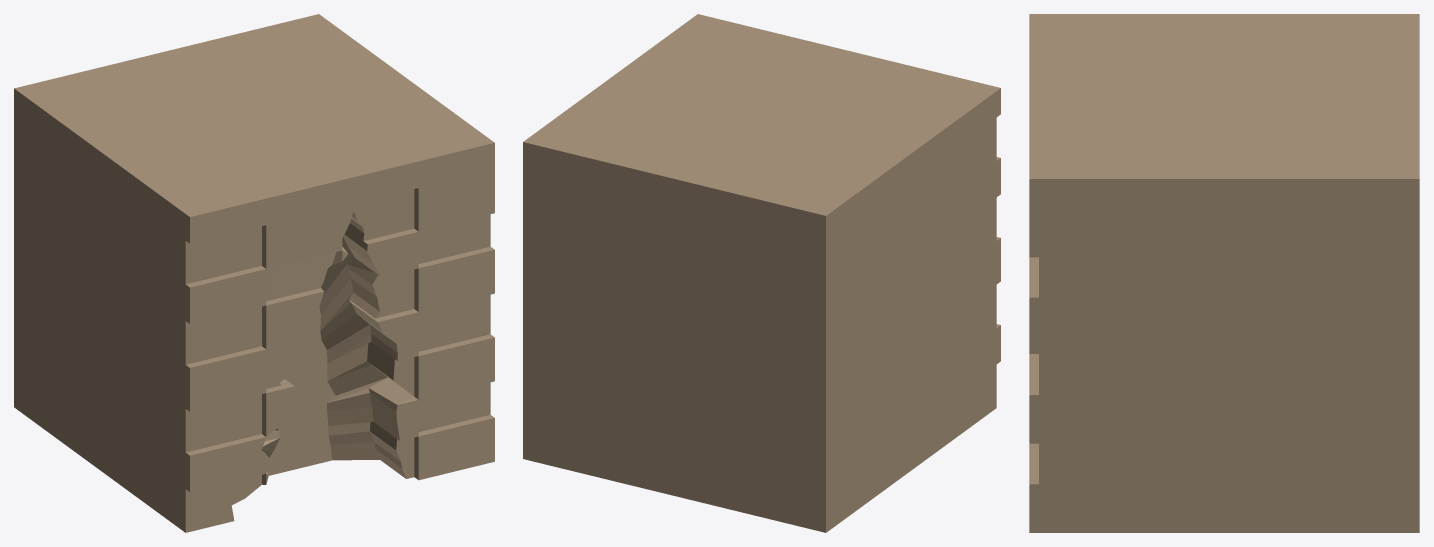
Rendered from outerWall_broken3_5.4.fbx.
3 views of the same model, side by side, from view 1: azimuth 30°, elevation 25°; view 2: azimuth 150°, elevation 25°; view 3: azimuth 270°, elevation 25° (orthographic). The views are drawn at different scales.
Parts seen in each view (by area): view 1: outerWall_broken3; view 2: outerWall_broken3; view 3: outerWall_broken3.
Part boxes in pixels (bbox=[...]): outerWall_broken3: bbox=[14, 14, 494, 532]; outerWall_broken3: bbox=[523, 14, 1000, 532]; outerWall_broken3: bbox=[1029, 14, 1419, 532].
Size of the model in its own units: 400 by 400 by 400.
